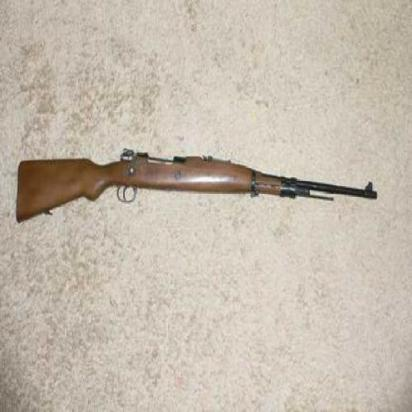Gun: (16, 145, 381, 227)
